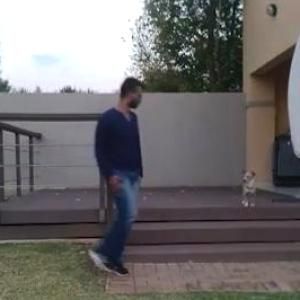follow: (92, 76, 148, 252)
